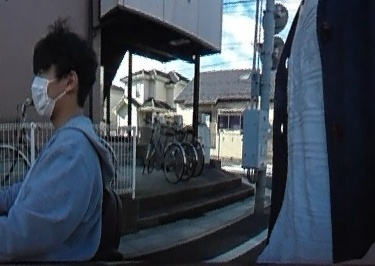person: (4, 26, 103, 266)
